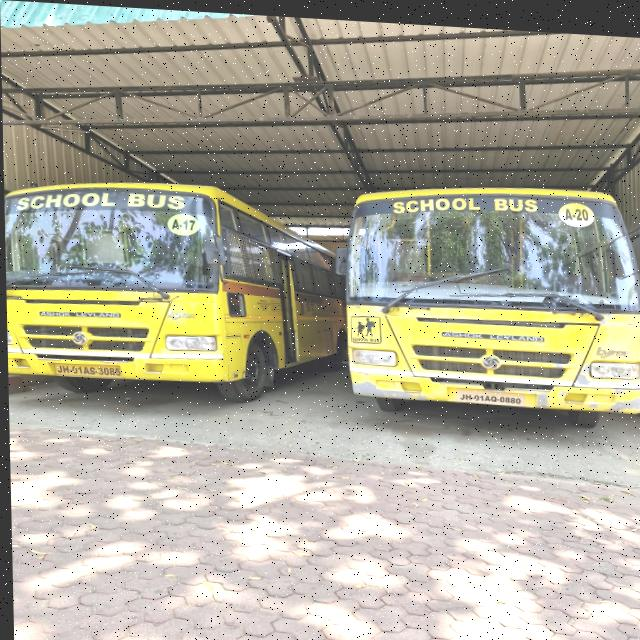bus: (304, 161, 640, 437), (6, 164, 341, 430)
